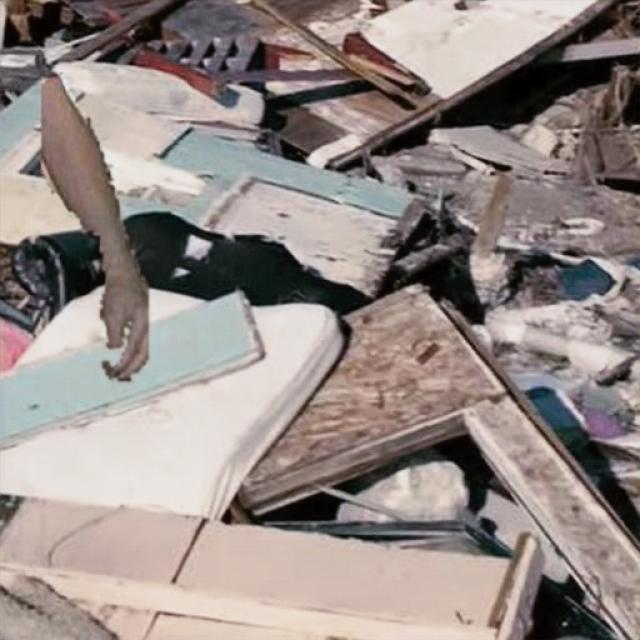Person in Rubble: (41, 72, 148, 380)
